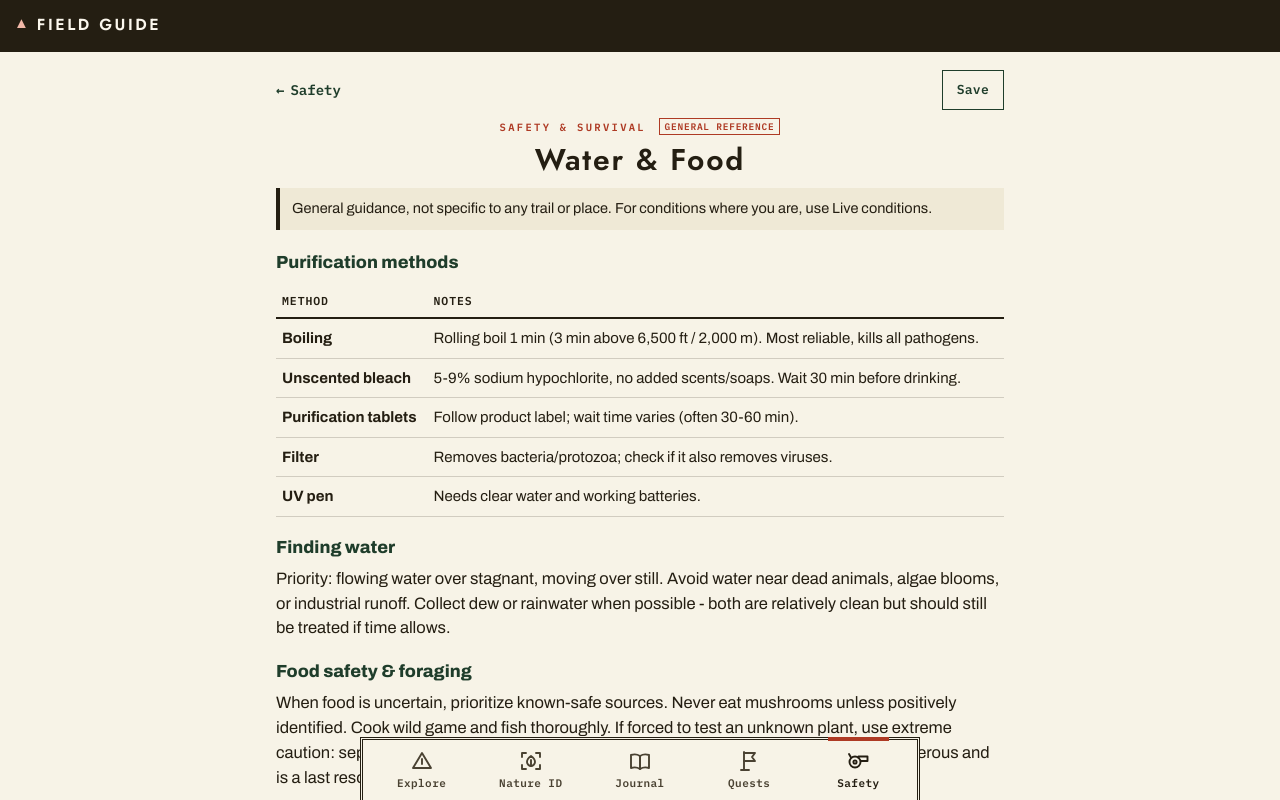
Test: Safety & Survival in the app › saved topics show up on the Safety page
Click the button "Save". click: (973, 90)
box: [942, 70, 1004, 110]
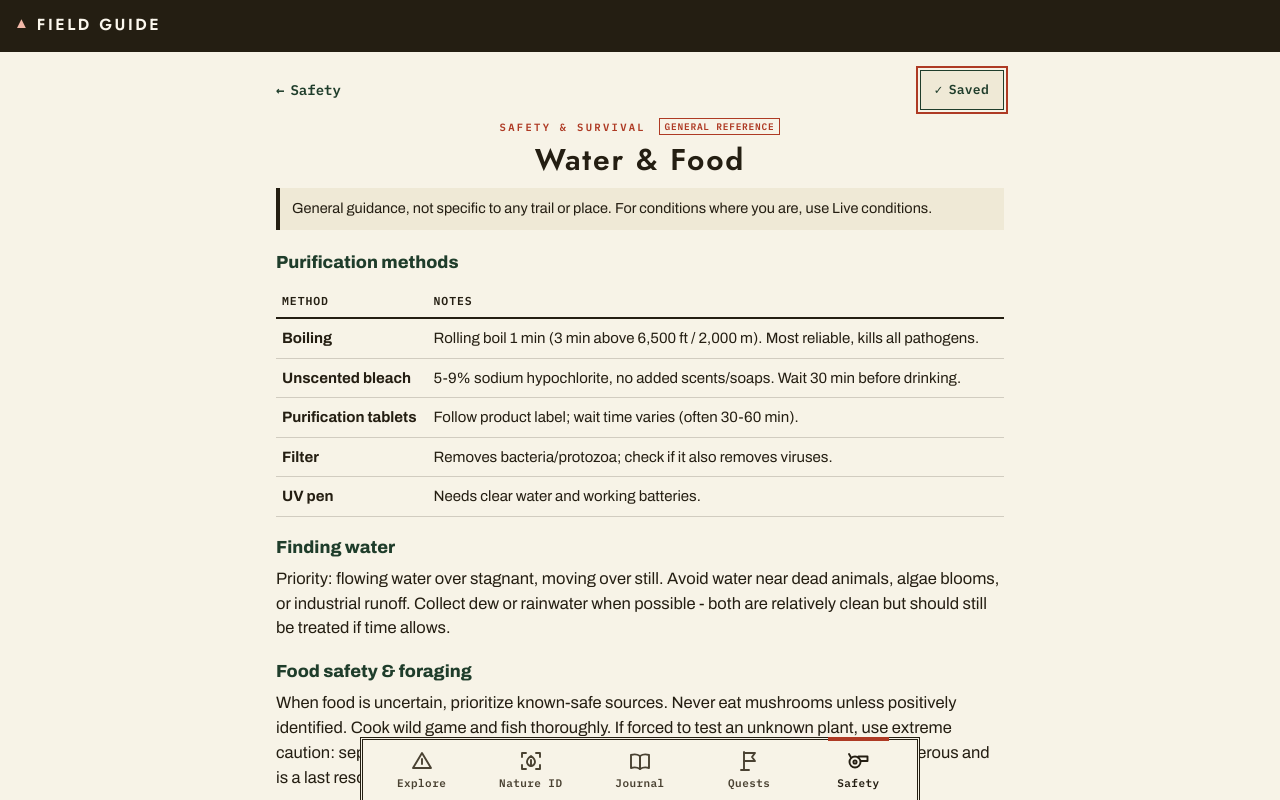
Click the button "← Safety". click: (311, 90)
box: [276, 68, 347, 112]
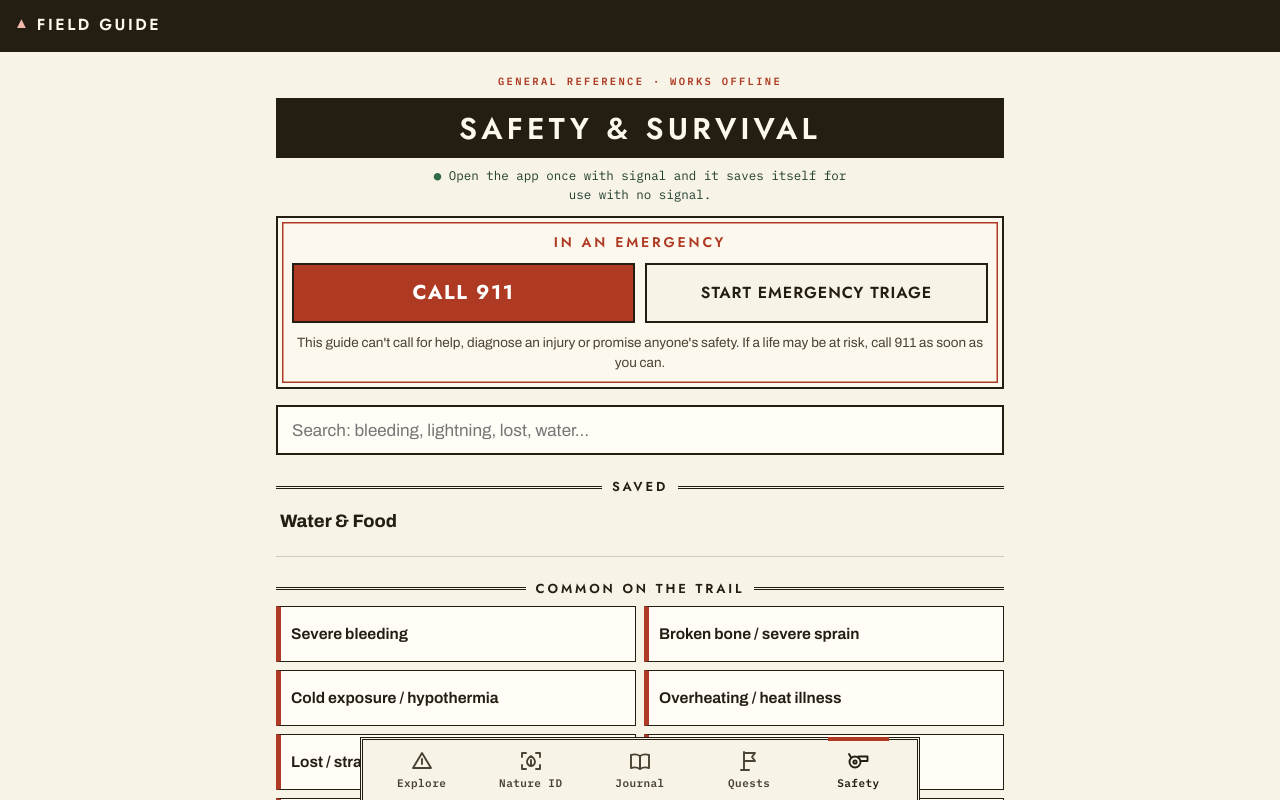
Check: the button "Water & Food" is shown, box [276, 501, 1004, 557]
